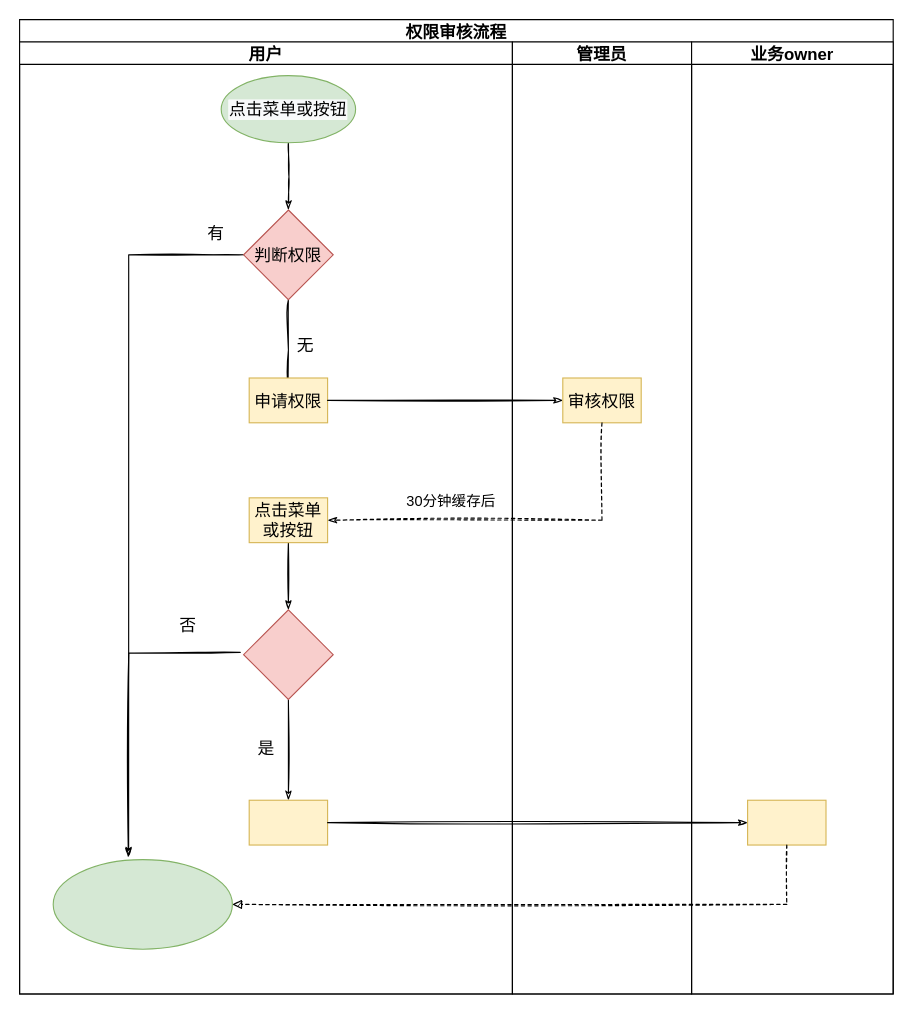
The diagram is 913 pixels wide and 1014 high, and some of its shapes have lost their labels. The centre of each missing label's shape, as x and y in pixels:
"敏感数据" belongs at (287,654).
"添加白名单权限" belongs at (786,822).
"申请白名单权限" belongs at (288,822).
"进入页面或者查询数据" belongs at (142,903).
